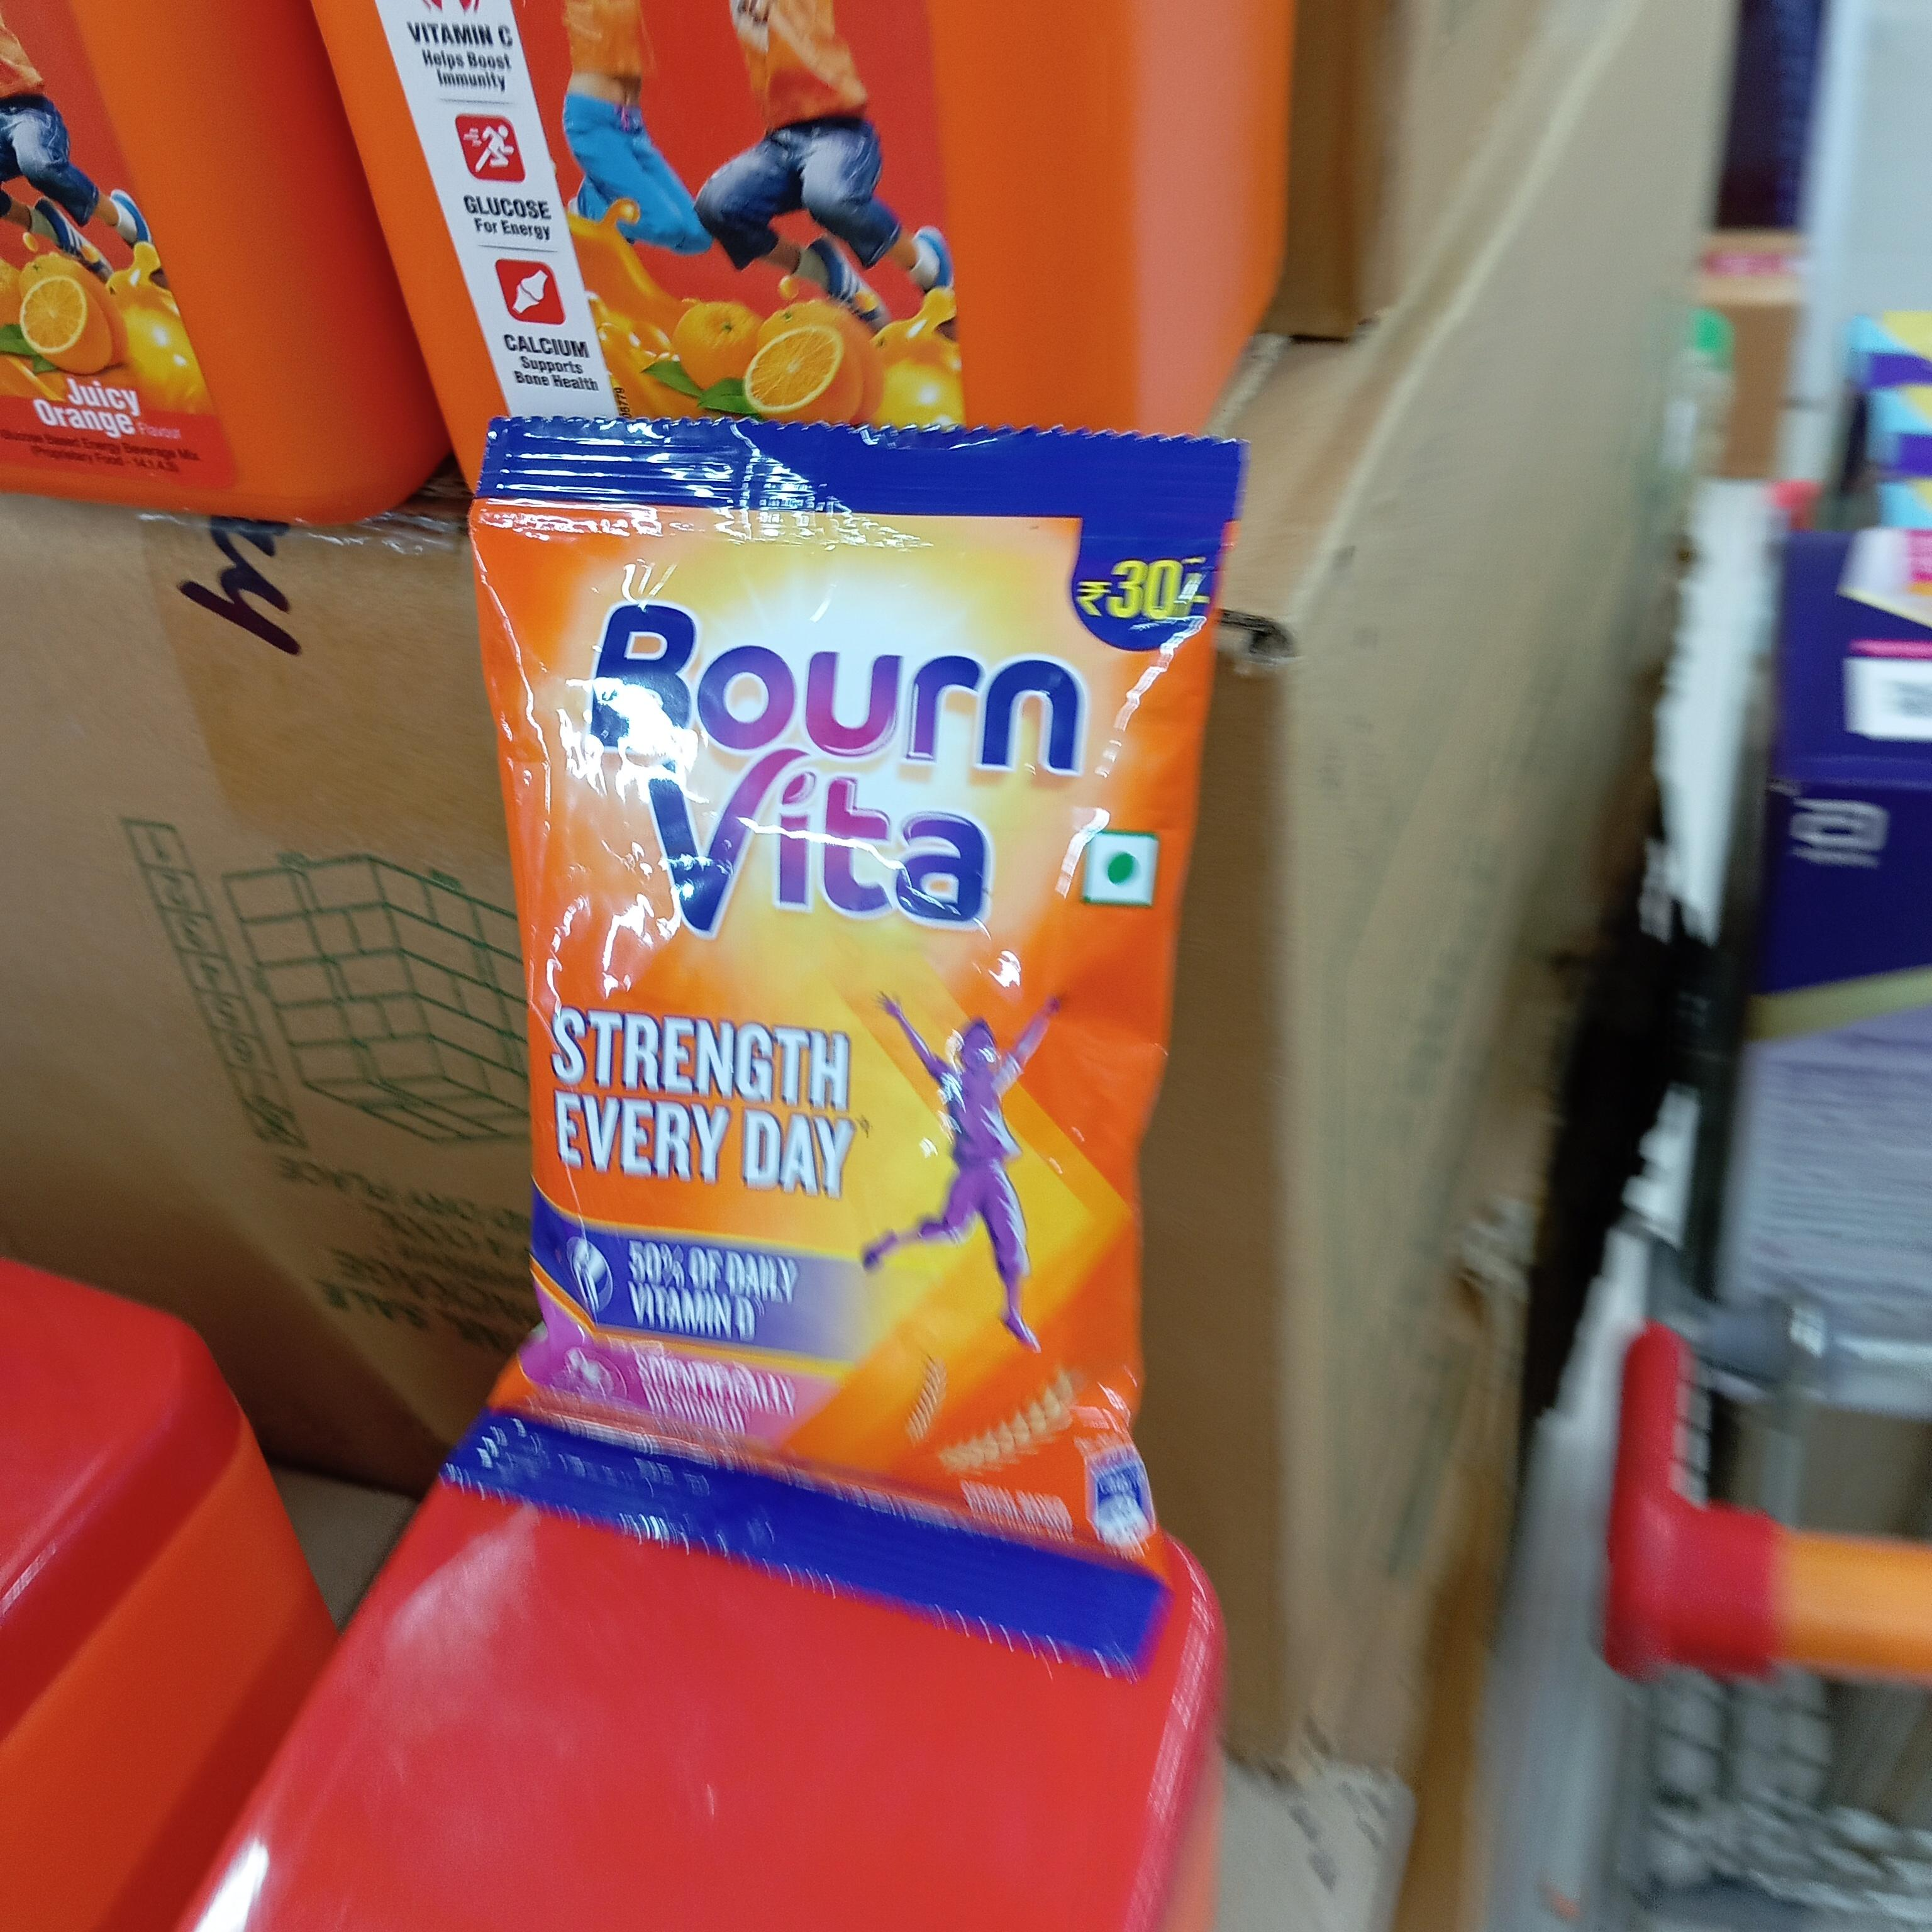BOURN_VITA_75_G_POUCH: (504, 409, 1161, 1592)
